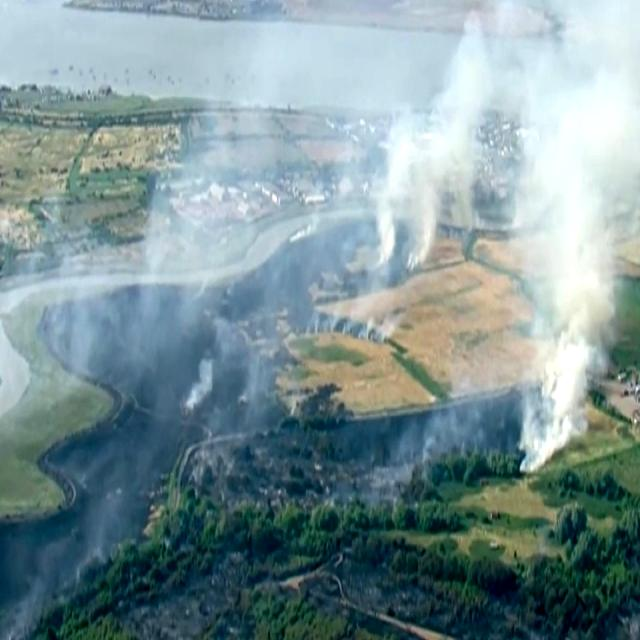smoke: (539, 104, 618, 311), (507, 318, 597, 463)
